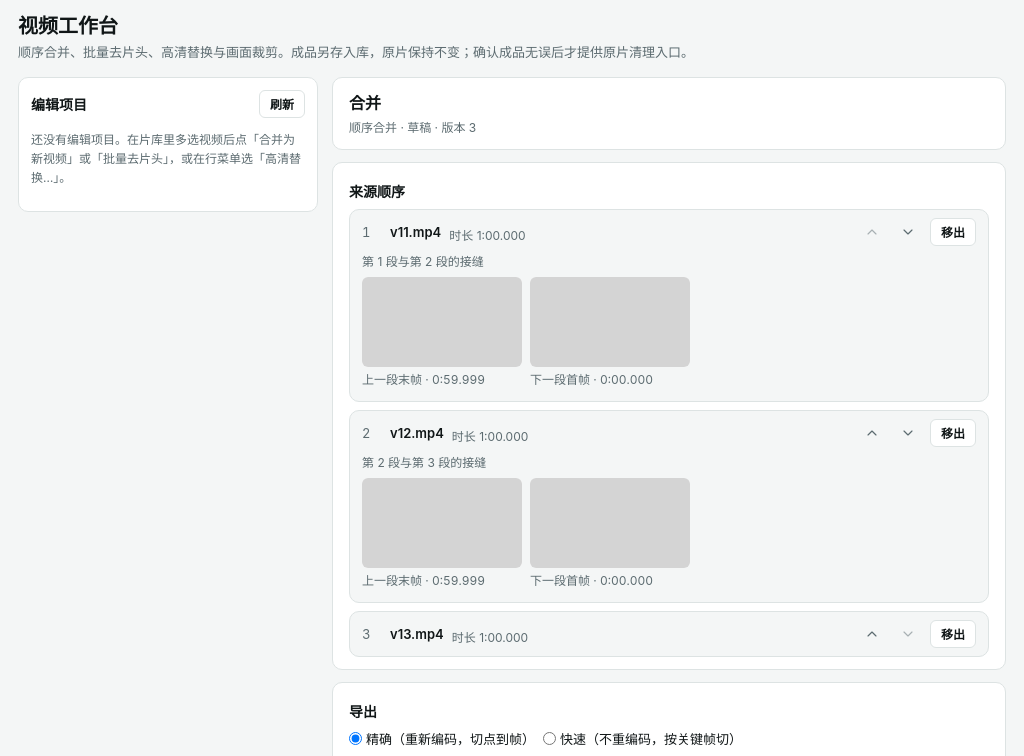
Test case: 视频工作台页（视频编辑合同「界面」） › 连续两次改动按顺序保存，第二次带第一次保存后的 revision
Click the button with test id "merge-up-13".
click(872, 634)  # box [858,620,886,648]
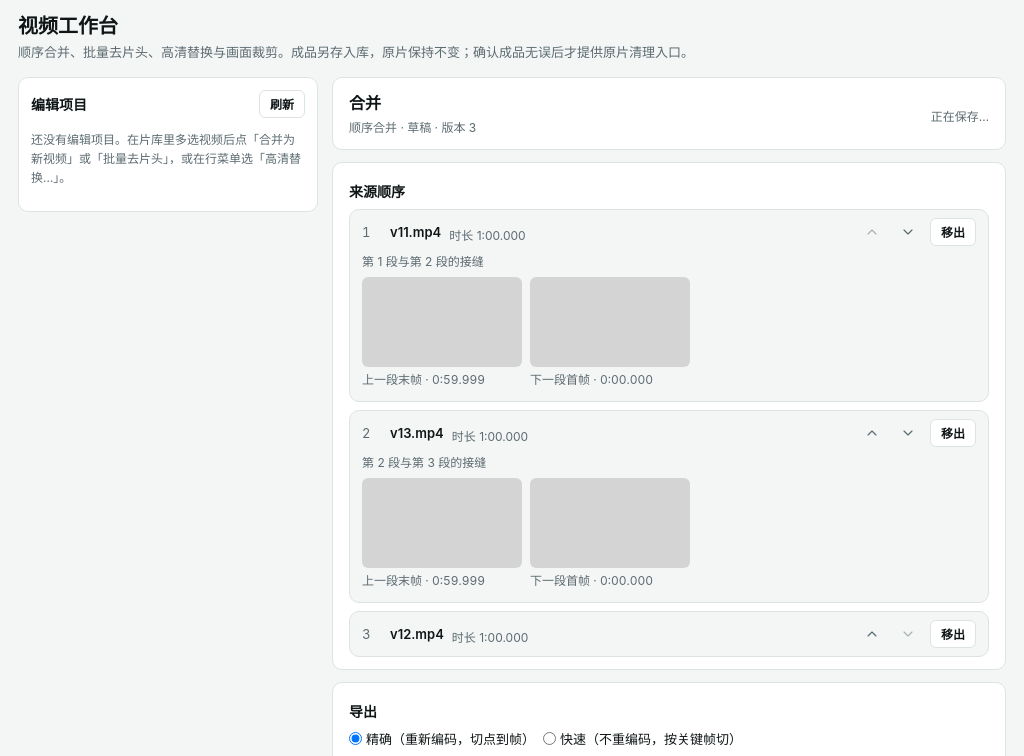
Click the button with test id "merge-up-12".
click(872, 634)  # box [858,620,886,648]
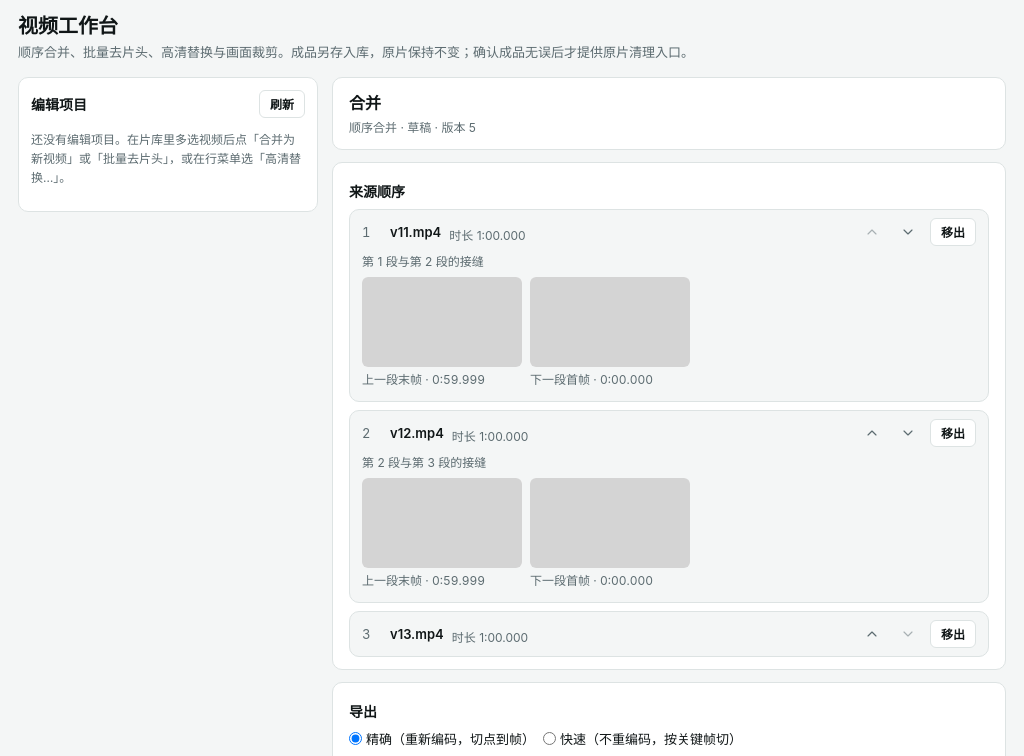
Now the text "版本 5" is shown, box [349,120,476,134]
